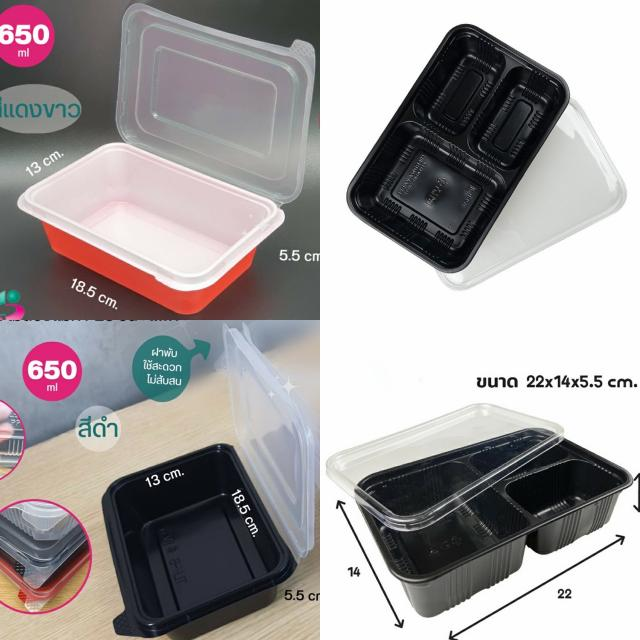Single-Use-Plastic: (348, 25, 569, 271), (355, 429, 630, 616), (18, 142, 284, 313), (116, 4, 315, 204), (102, 444, 296, 640), (438, 99, 626, 290), (328, 404, 564, 532), (224, 324, 319, 558)
